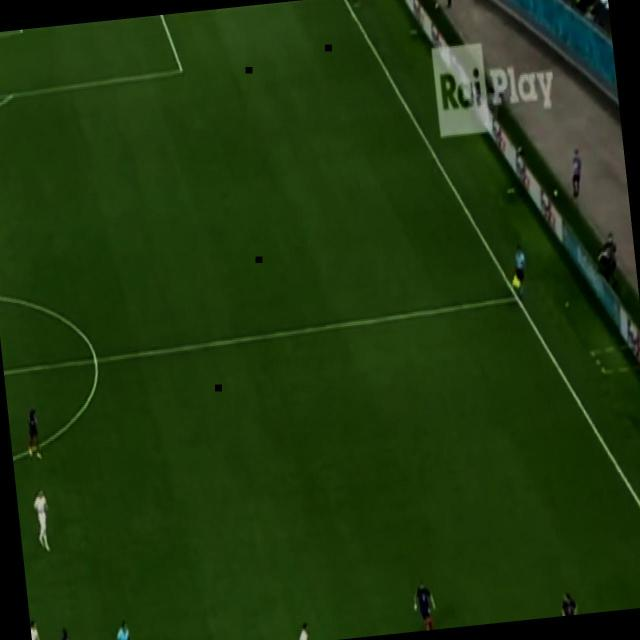ball: (415, 627, 424, 632)
player-white: (29, 484, 55, 556), (409, 574, 438, 632), (21, 403, 47, 465), (508, 242, 532, 304), (556, 586, 580, 616), (111, 612, 135, 640), (290, 618, 316, 640), (29, 615, 44, 640), (54, 622, 74, 640)
